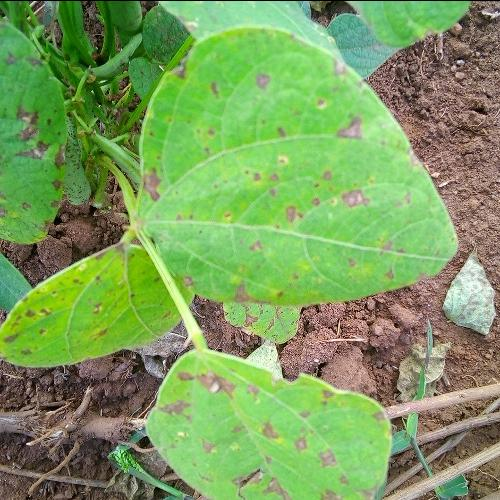hawar: (134, 25, 461, 306), (156, 344, 391, 500)
